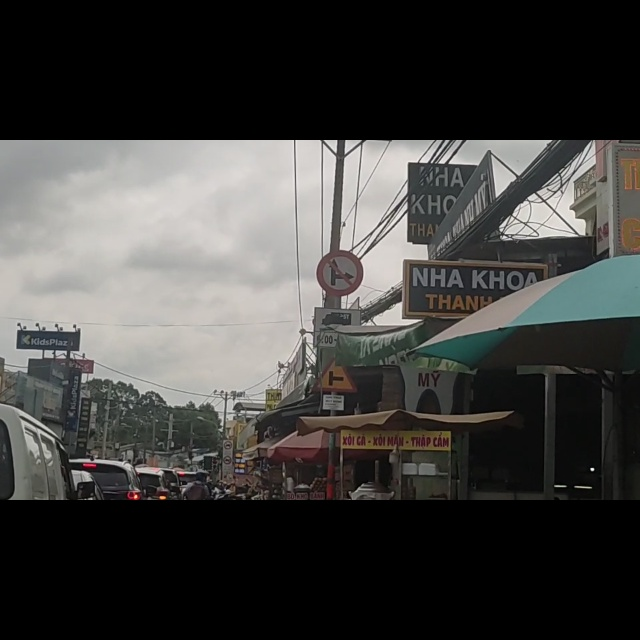bien_nguy_hiem: (317, 197, 363, 274), (312, 397, 357, 447), (316, 299, 359, 344)
